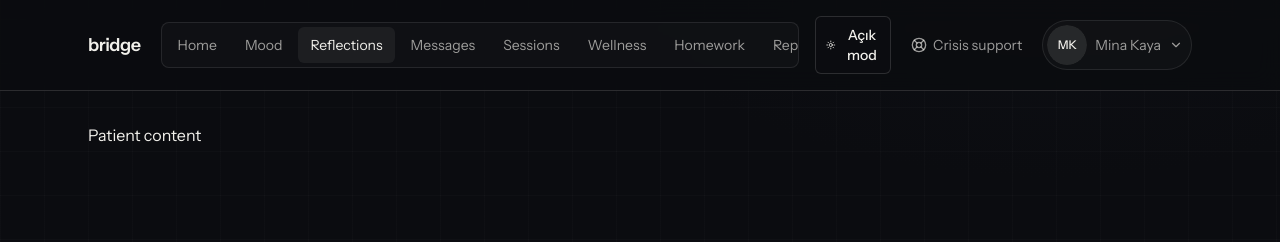
Scenario: AppShell › opens account actions from the desktop avatar menu
This screenshot has width=1280, height=242.
What coordinates should you click on to do the following:
click the button with aria-label "mina kaya account menu"
I would click on:
 (1117, 45)
Its box is x1=1042 y1=20 x2=1192 y2=70.
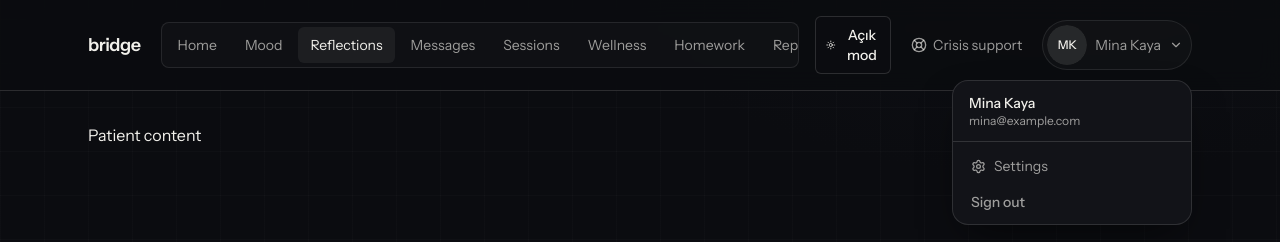
Now the 2nd text "Mina Kaya" is shown, box x1=969 y1=94 x2=1035 y2=112
